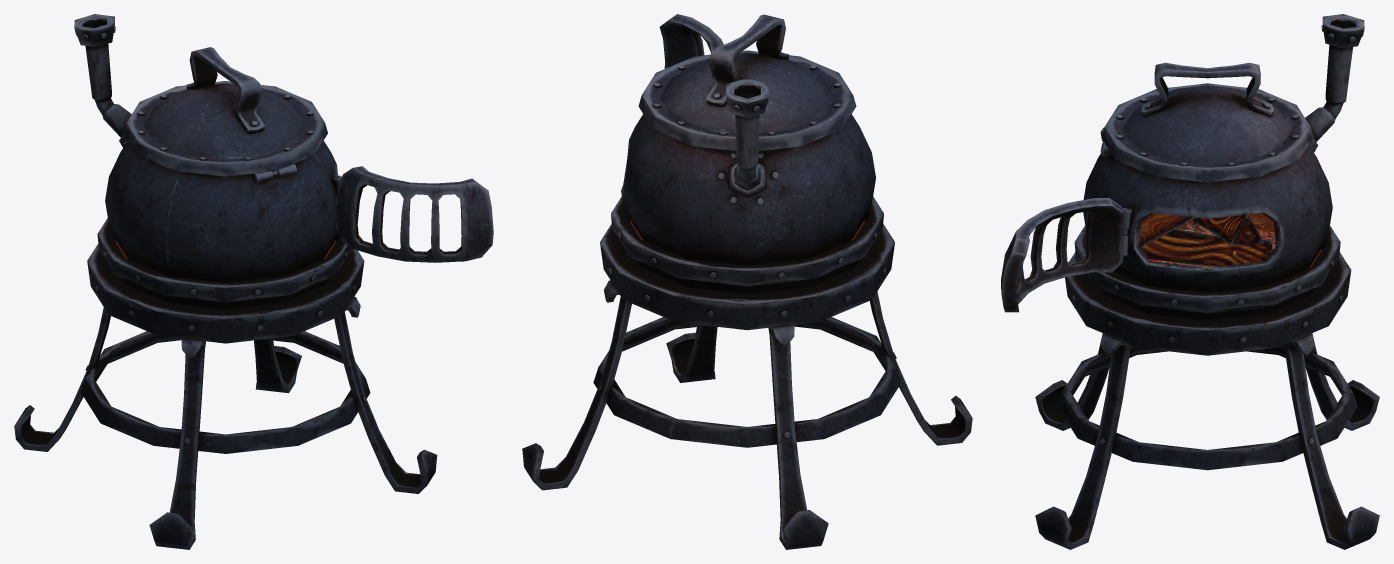
File: jerome_the_stylized_furnace.glb
3 views of the same model, side by side, from view 1: azimuth 30°, elevation 25°; view 2: azimuth 150°, elevation 25°; view 3: azimuth 270°, elevation 25° (orthographic). The views are drawn at different scales.
Visible parts, largest first — view 1: Cylinder, Cylinder.002, Cylinder.001, Cylinder.004, Cylinder.003, Plane.003, Plane.004, Cylinder.011, Plane, Plane.001, Plane.002; view 2: Cylinder, Cylinder.002, Cylinder.001, Cylinder.003, Plane.001, Plane.002, Cylinder.011, Plane, Plane.003, Plane.004, Cylinder.004; view 3: Cylinder.002, Cylinder, Cylinder.001, Cylinder.003, Cylinder.004, Plane.002, Plane.004, Cylinder.011, Cylinder.007, Plane, Plane.003, Plane.001 (+2 smaller).
Part boxes in pixels (bbox=[...]): Cylinder: bbox=[105, 140, 338, 282]; Cylinder.002: bbox=[87, 218, 364, 343]; Cylinder.001: bbox=[123, 81, 327, 176]; Cylinder.004: bbox=[336, 166, 493, 262]; Cylinder.003: bbox=[81, 331, 370, 453]; Plane.003: bbox=[149, 338, 205, 549]; Plane.004: bbox=[334, 296, 437, 493]; Cylinder.011: bbox=[74, 14, 131, 147]; Plane: bbox=[186, 47, 265, 133]; Plane.001: bbox=[14, 307, 110, 451]; Plane.002: bbox=[254, 339, 301, 393]; Cylinder: bbox=[621, 114, 875, 265]; Cylinder.002: bbox=[600, 196, 894, 330]; Cylinder.001: bbox=[638, 50, 856, 151]; Cylinder.003: bbox=[593, 317, 901, 447]; Plane.001: bbox=[768, 325, 828, 549]; Plane.002: bbox=[522, 280, 631, 490]; Cylinder.011: bbox=[726, 78, 768, 198]; Plane: bbox=[705, 14, 789, 106]; Plane.003: bbox=[870, 291, 972, 445]; Plane.004: bbox=[666, 325, 717, 382]; Cylinder.004: bbox=[659, 14, 723, 68]; Cylinder.002: bbox=[1065, 213, 1351, 355]; Cylinder: bbox=[1083, 145, 1332, 292]; Cylinder.001: bbox=[1101, 83, 1313, 182]; Cylinder.003: bbox=[1057, 345, 1357, 470]; Cylinder.004: bbox=[1001, 198, 1123, 312]; Plane.002: bbox=[1284, 334, 1379, 549]; Plane.004: bbox=[1035, 334, 1130, 549]; Cylinder.011: bbox=[1305, 14, 1364, 152]; Cylinder.007: bbox=[1141, 229, 1272, 266]; Plane: bbox=[1141, 62, 1274, 117]; Plane.003: bbox=[1035, 333, 1109, 430]; Plane.001: bbox=[1305, 333, 1379, 430].
Bounding box in the file's own units: 1.2 × 1.51 × 1.21.
Materials: 1 (1 with a texture image).
